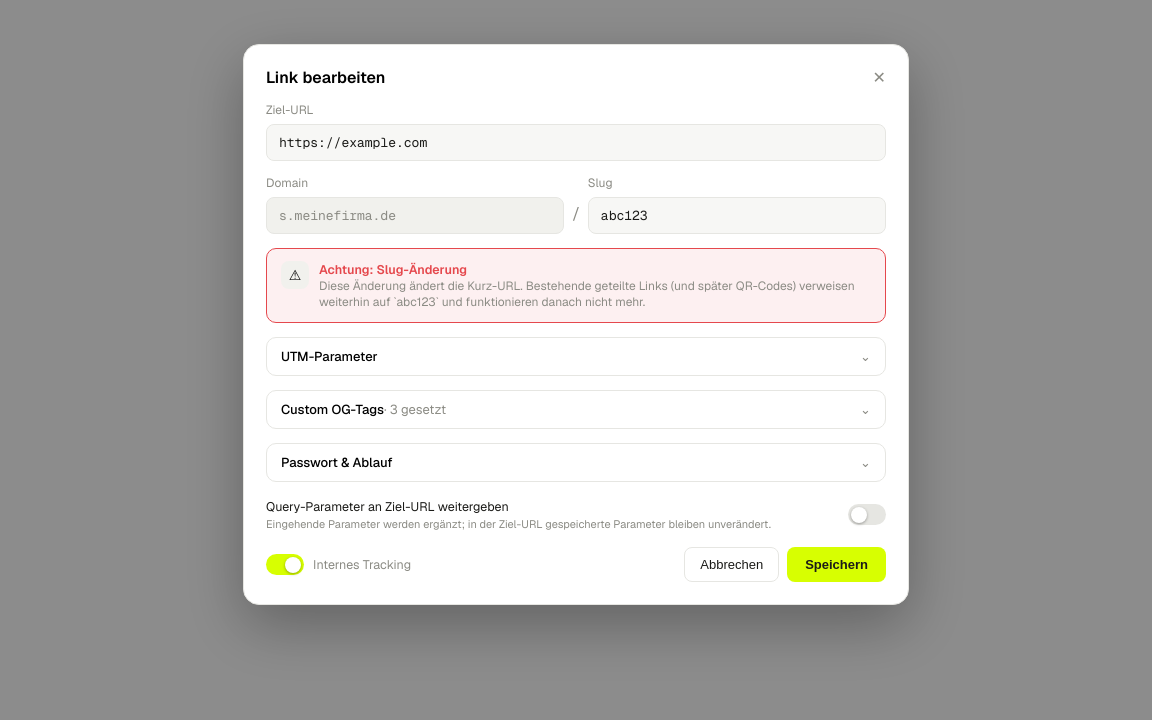
Scenario: LinkFormModal › Custom OG-Tags section (Surface B) — input column › in edit mode the three inputs are pre-filled from the passed-in initial values
What coordinates should you click on to do the following:
click the button with class "accordion-header--og"
I would click on:
 (332, 410)
Its box is [281,401,871,418].
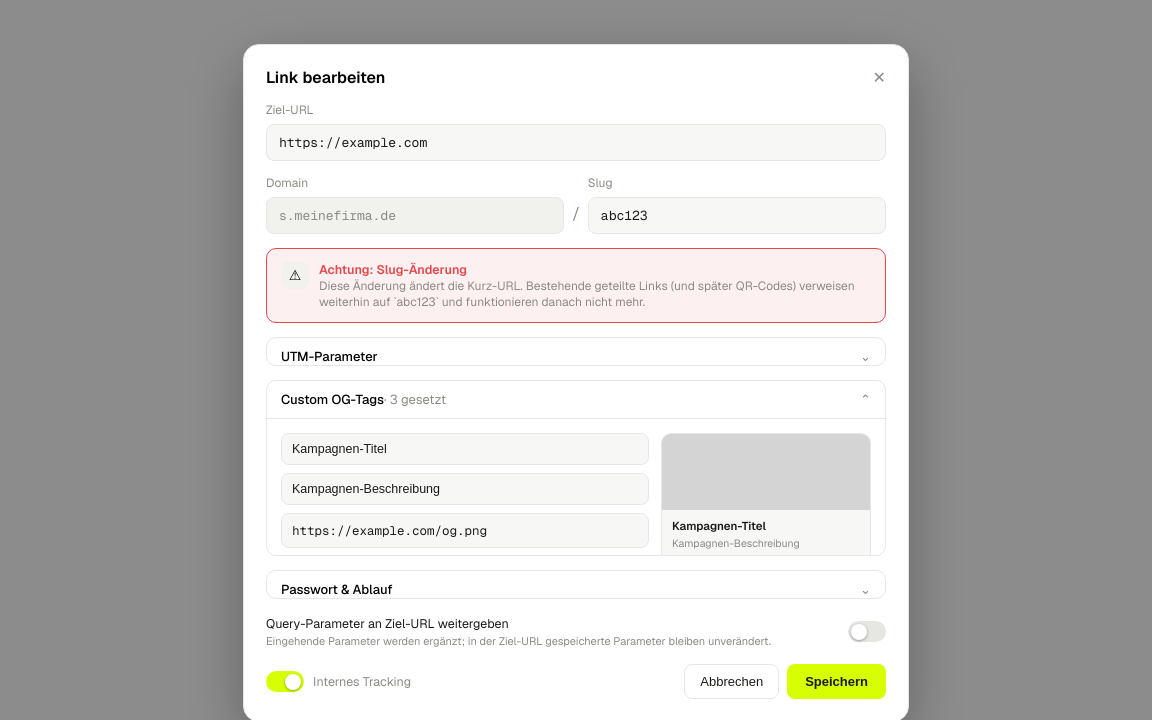
Result: the 3rd field with class "og-input" holds "Kampagnen-Titel" at [281,433,649,465]
Result: the 4th field with class "og-input" holds "Kampagnen-Beschreibung" at [281,473,649,505]
Result: the 5th field with class "og-input" holds "https://example.com/og.png" at [281,513,649,548]
